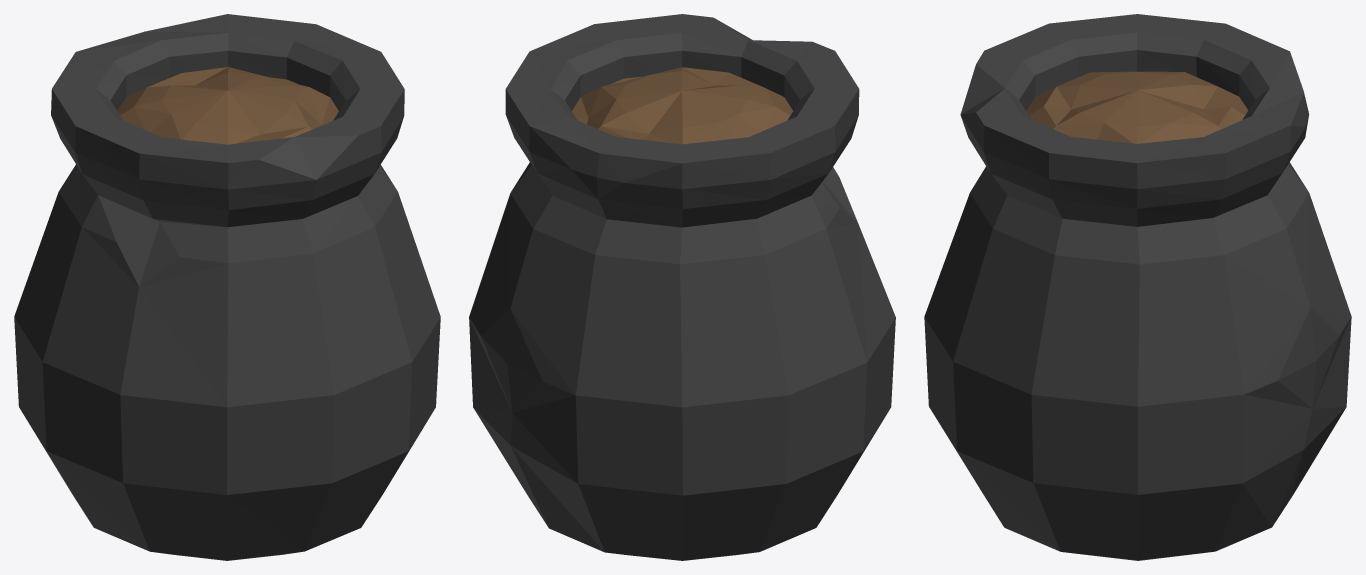
File: SFHW_Vassel_015.fbx
The picture shows the model from 3 angles, left to right: view 1: azimuth 30°, elevation 25°; view 2: azimuth 150°, elevation 25°; view 3: azimuth 270°, elevation 25°; orthographic projection.
Parts seen in each view (by area): view 1: SFHW_Vassel_015; view 2: SFHW_Vassel_015; view 3: SFHW_Vassel_015.
Part boxes in pixels (box(x1,y1,x2,y2)): SFHW_Vassel_015: box(14, 14, 440, 560); SFHW_Vassel_015: box(469, 14, 895, 560); SFHW_Vassel_015: box(924, 14, 1351, 560).
Size of the model in its own units: 28.16 by 31.07 by 28.18.
